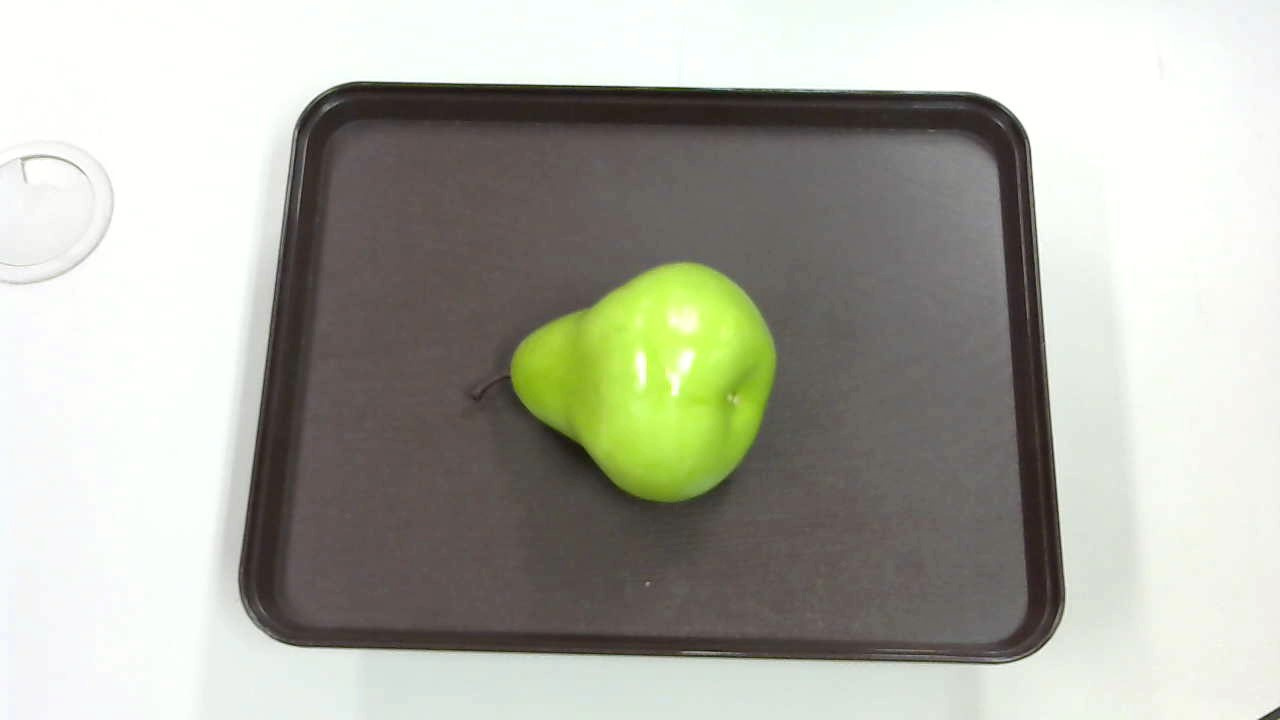green pear: (454, 261, 786, 503)
